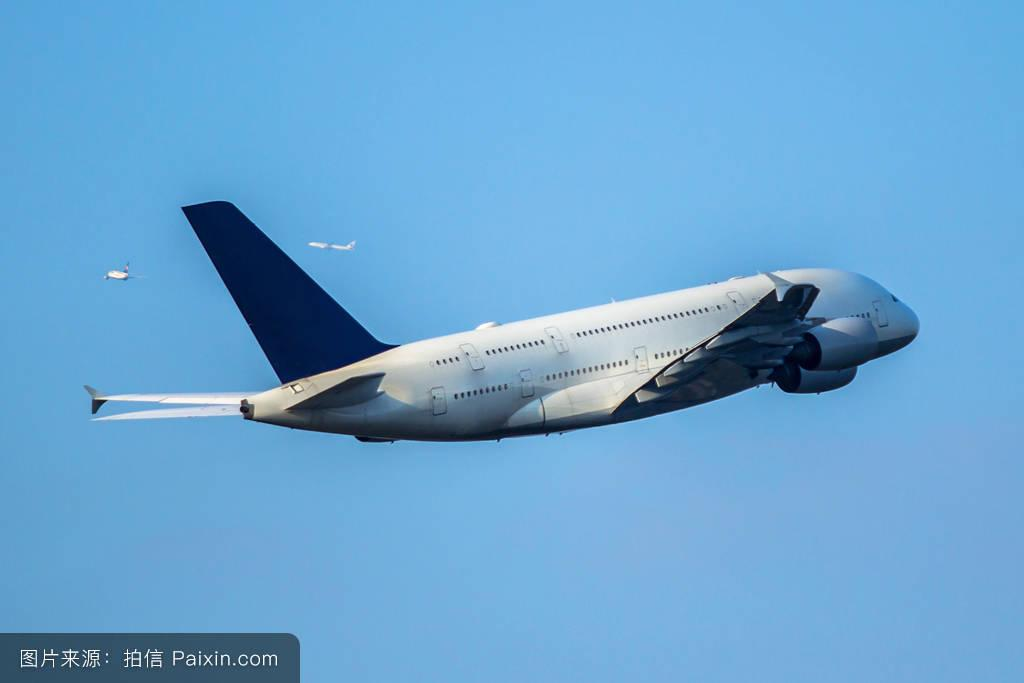airplane: (92, 191, 929, 446), (300, 233, 363, 261), (103, 260, 140, 288)
